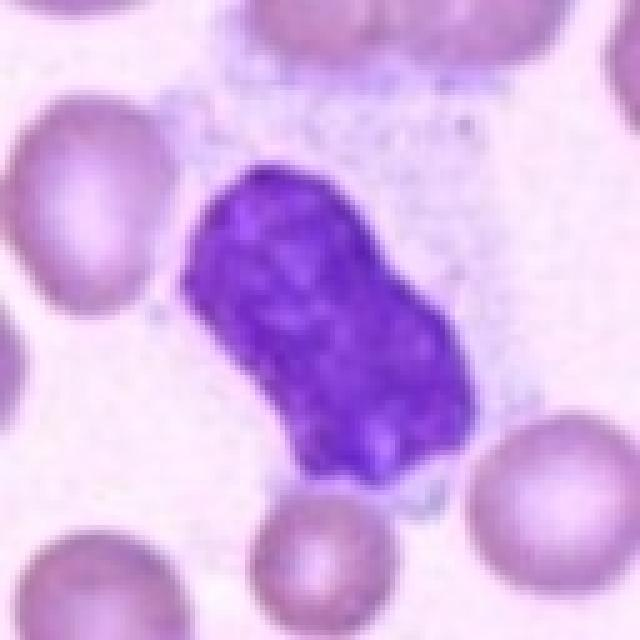lympho: (105, 0, 556, 527)
